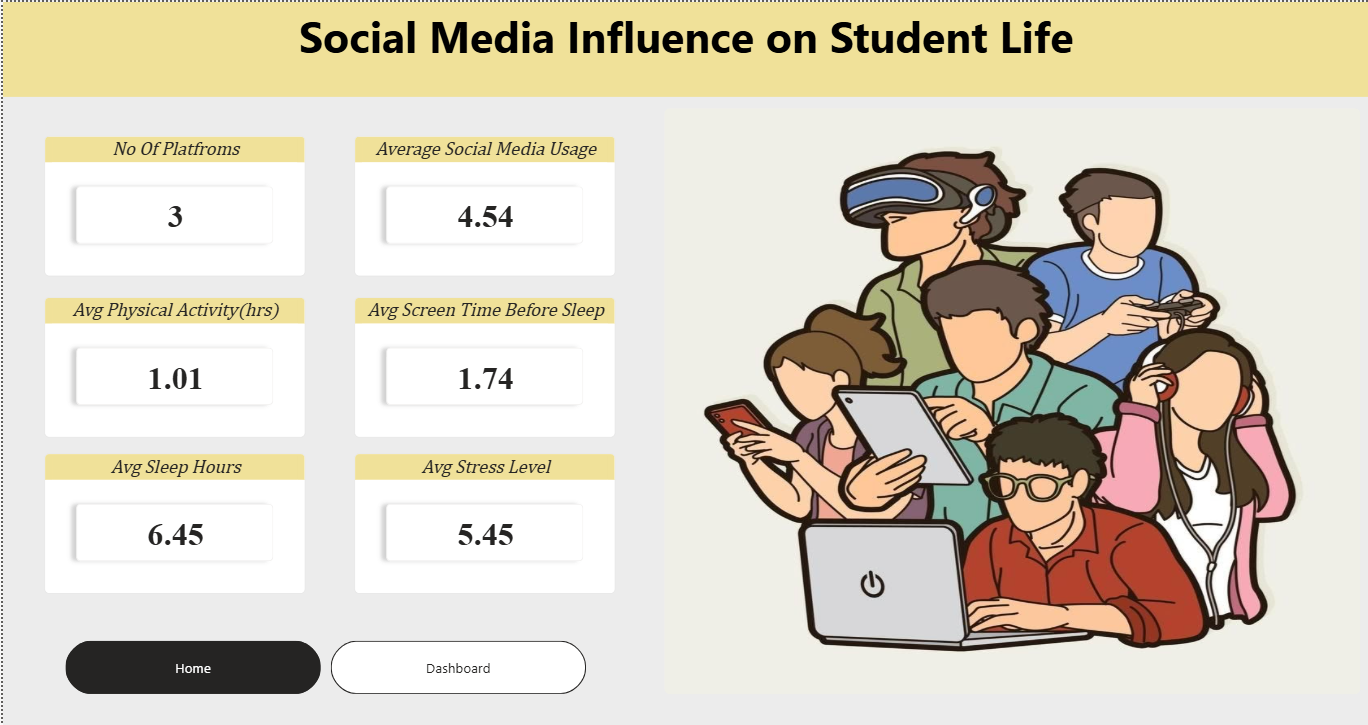

The dashboard page shown, as its layout file describes it:
{"tool":"powerbi","page":{"name":"Home","canvas":[1360,720],"ordinal":0},"visuals":[{"type":"textbox","box":[0,0,1359.6,94.5],"z":0},{"type":"image","box":[658.1,105.7,692.9,583.4],"z":1000},{"type":"cardVisual","title":"Average Social Media Usage","fields":{"Data":["Avg(socialmedia teen_analyze.daily_social_media_hours)"]},"box":[349.6,132.9,260,140],"z":2000},{"type":"cardVisual","title":"Avg Physical Activity(hrs)","fields":{"Data":["Avg(socialmedia teen_analyze.physical_activity)"]},"box":[41.1,293.3,260,140],"z":3000},{"type":"cardVisual","title":"No Of Platfroms","fields":{"Data":["Count(socialmedia teen_analyze.platform_usage)"]},"box":[41.1,132.9,260,140],"z":4000},{"type":"cardVisual","title":"Avg Screen Time Before Sleep","fields":{"Data":["Avg(socialmedia teen_analyze.screen_time_before_sleep)"]},"box":[349.6,293.3,260,140],"z":5000},{"type":"cardVisual","title":"Avg Sleep Hours","fields":{"Data":["Avg(socialmedia teen_analyze.sleep_hours)"]},"box":[41.1,448.9,260,140],"z":6000},{"type":"cardVisual","title":"Avg Stress Level","fields":{"Data":["Avg(socialmedia teen_analyze.stress_level)"]},"box":[349.6,448.9,260,140],"z":7000},{"type":"pageNavigator","box":[62.2,635.7,520,53.5],"z":8000}]}

Visuals, with their boxes in screenshot pixels (x1, y1, x2, y2), scaled from the page's 1360x720 canvas onto the 1368x725 screenshot:
textbox: [x1=0, y1=0, x2=1367, y2=95]
image: [x1=662, y1=106, x2=1359, y2=694]
"Average Social Media Usage" cardVisual: [x1=352, y1=134, x2=613, y2=275]
"Avg Physical Activity(hrs)" cardVisual: [x1=41, y1=295, x2=303, y2=436]
"No Of Platfroms" cardVisual: [x1=41, y1=134, x2=303, y2=275]
"Avg Screen Time Before Sleep" cardVisual: [x1=352, y1=295, x2=613, y2=436]
"Avg Sleep Hours" cardVisual: [x1=41, y1=452, x2=303, y2=593]
"Avg Stress Level" cardVisual: [x1=352, y1=452, x2=613, y2=593]
pageNavigator: [x1=63, y1=640, x2=586, y2=694]
